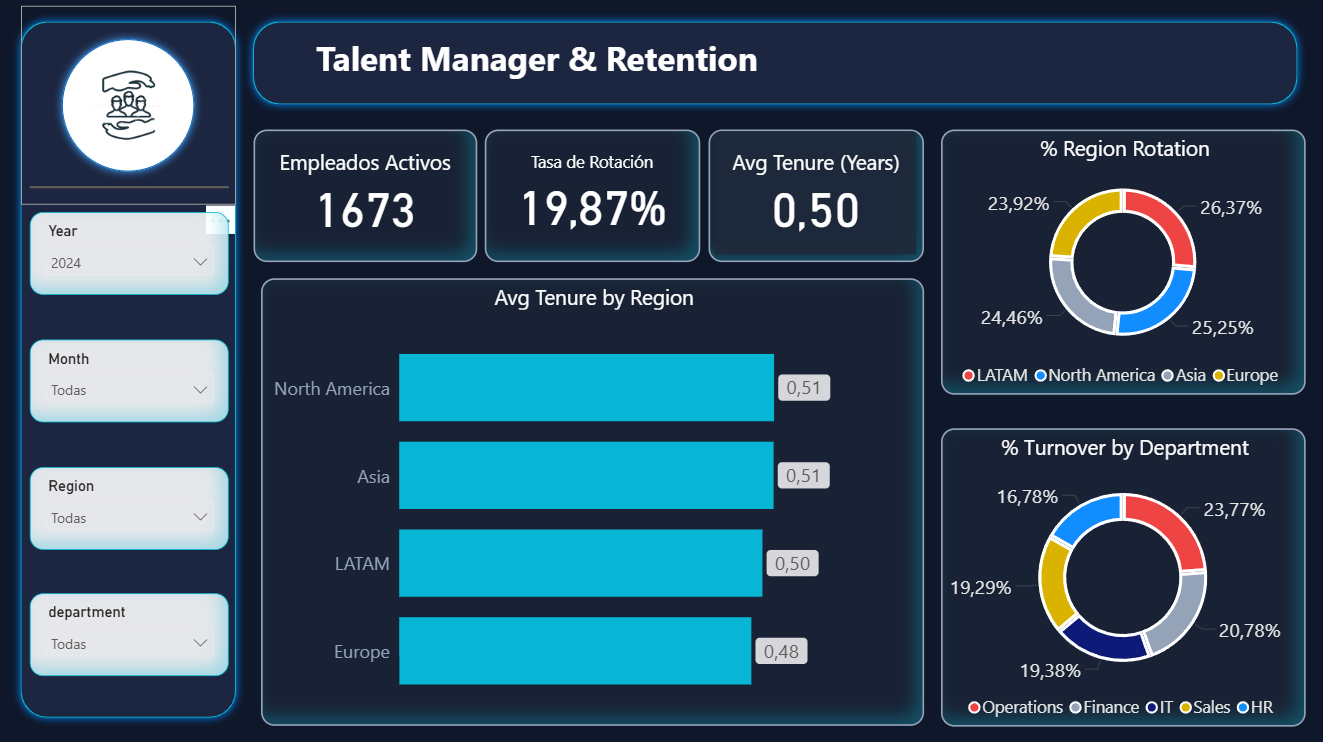

The dashboard page shown, as its layout file describes it:
{"tool":"powerbi","page":{"name":"Gestión de Talento y Retención","canvas":[1280,720],"ordinal":3},"visuals":[{"type":"shape","box":[16,16,224,688],"z":0},{"type":"shape","box":[240,16,1024,96],"z":1000},{"type":"slicer","fields":{"Values":["regions.region_name"]},"box":[32,453.3,192,80],"z":2000},{"type":"slicer","fields":{"Values":["departments.department_name"]},"box":[32,576,192,80],"z":3000},{"type":"slicer","fields":{"Values":["Calendario 2.Mes"]},"box":[32,330.7,192,80],"z":4000},{"type":"shape","box":[32,144,192,80],"z":5000},{"type":"cardVisual","title":"Costo total","fields":{"Data":["Metricas.Tasa de Rotación"]},"box":[472,128,208,128],"z":6000},{"type":"clusteredBarChart","title":"Avg Tenure by Region","fields":{"Category":["regions.region_name"],"Y":["Metricas.Antigüedad Promedio Empleados"]},"box":[256,272,640,432],"z":7000},{"type":"cardVisual","fields":{"Data":["Metricas.Antigüedad Promedio Empleados"]},"box":[688,128,208,128],"z":8000},{"type":"cardVisual","title":"Costo total","fields":{"Data":["Metricas.EmpleadosActivos2"]},"box":[248,128,216,128],"z":9000},{"type":"textbox","box":[304,32,496,64],"z":10000},{"type":"donutChart","title":"% Turnover by Department","fields":{"Y":["Metricas.Tasa de Rotación"],"Category":["departments.department_name"]},"box":[912,416,352,288],"z":11000},{"type":"pieChart","title":"% Region Rotation","fields":{"Y":["Metricas.Tasa de Rotación2"],"Category":["regions.region_name"]},"box":[912,128,352,256],"z":12000},{"type":"shape","box":[56,32,144,144],"z":12500,"group":"g1"},{"type":"group","id":"g1","title":"Grupo 1","box":[56,32,144,144],"z":13000},{"type":"image","box":[24,8,208,192],"z":14000},{"type":"slicer","fields":{"Values":["Calendario 2.Año"]},"box":[32,208,192,80],"z":15000}]}

Visuals, with their boxes in screenshot pixels (x1, y1, x2, y2), scaled from the page's 1280x720 canvas onto the 1323x742 screenshot:
shape: 17,16,248,726
shape: 248,16,1306,115
slicer - regions.region_name: 33,467,232,550
slicer - departments.department_name: 33,594,232,676
slicer - Calendario 2.Mes: 33,341,232,423
shape: 33,148,232,231
"Costo total" cardVisual: 488,132,703,264
"Avg Tenure by Region" clusteredBarChart: 265,280,926,726
cardVisual - Metricas.Antigüedad Promedio Empleados: 711,132,926,264
"Costo total" cardVisual: 256,132,480,264
textbox: 314,33,827,99
"% Turnover by Department" donutChart: 943,429,1306,726
"% Region Rotation" pieChart: 943,132,1306,396
shape: 58,33,207,181
"Grupo 1" group: 58,33,207,181
image: 25,8,240,206
slicer - Calendario 2.Año: 33,214,232,297
